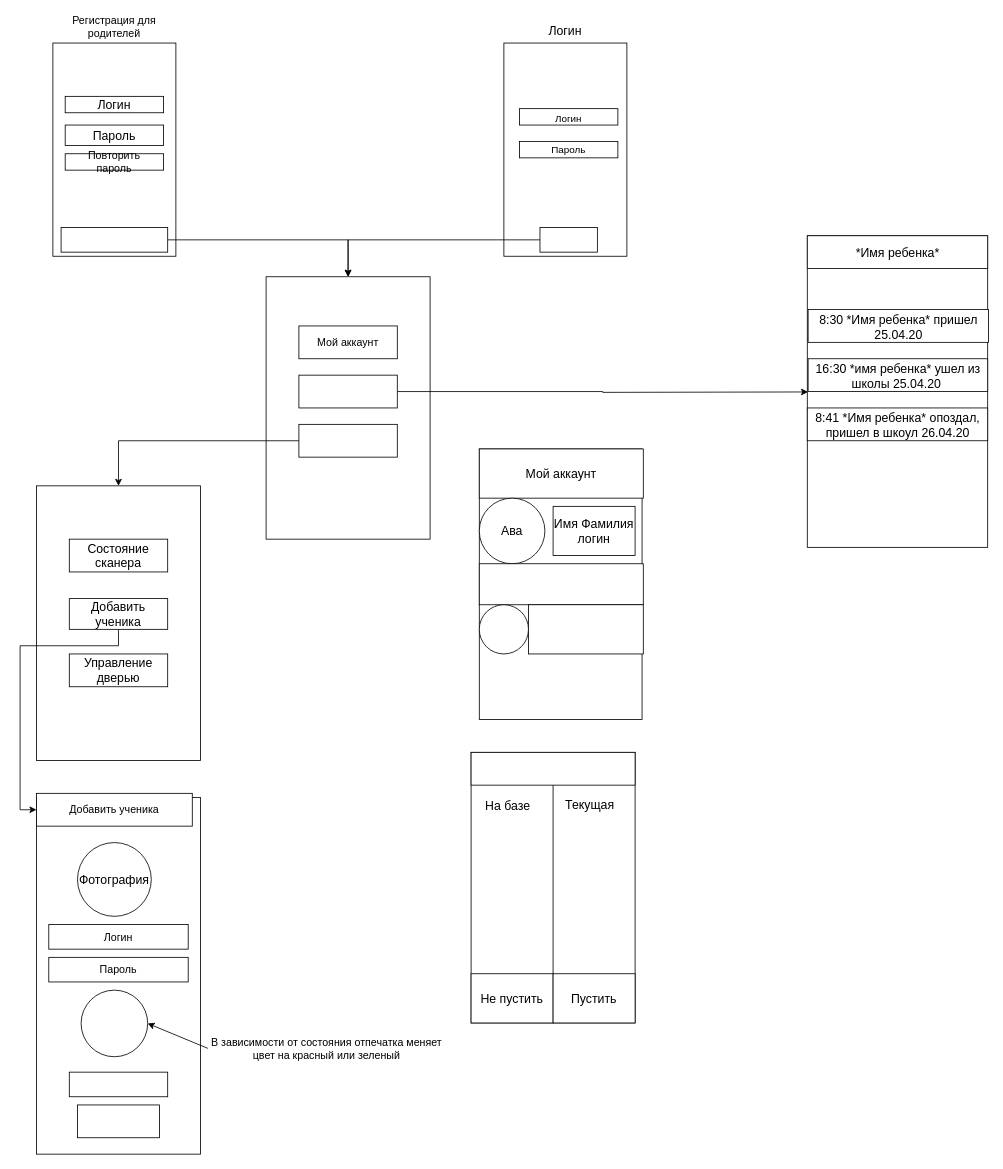
Image size: 1003x1169. Some labels were removed from this diagram. Each missing label, with the centre of its shape:
Верификация фотографий: point (552, 768)
Войти: point (568, 239)
Добавить ребенка: point (560, 584)
Добавить ученкиа: point (118, 1121)
Зарегистрироваться: point (114, 239)
Имя фамилия ребенка: point (585, 629)
История посещения: point (347, 391)
Меню охраника: point (347, 440)
Сканировать отпечаток: point (118, 1084)
Фото: point (503, 629)
